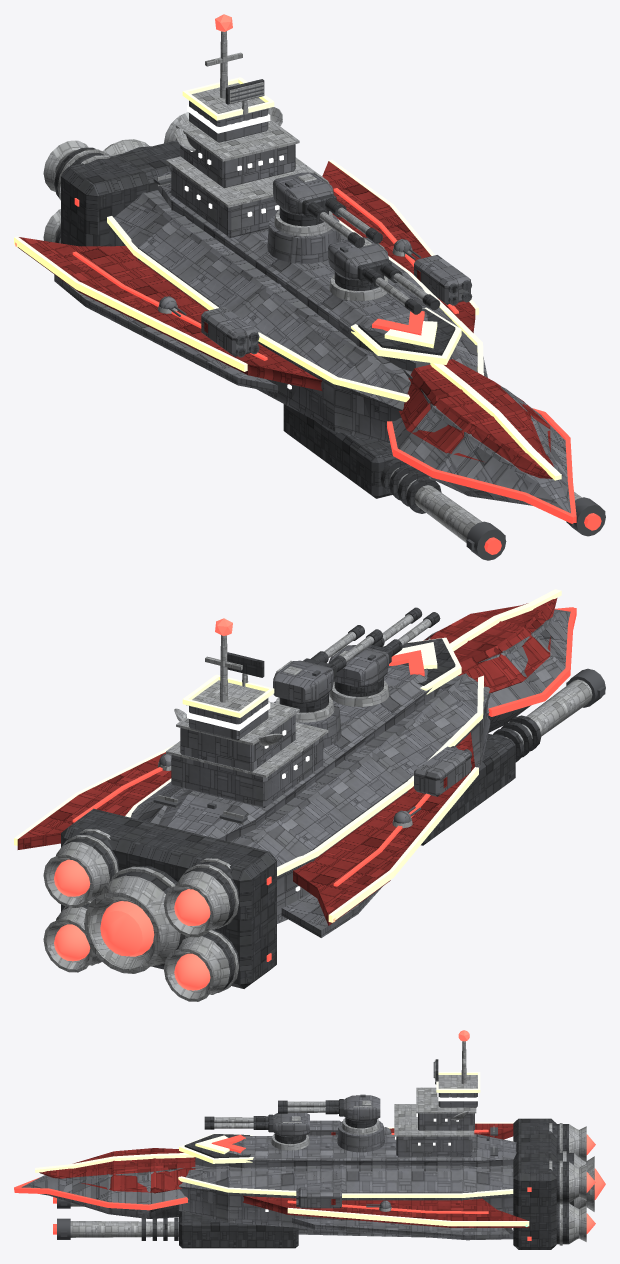
Rendered from vanguard_wreck.glb.
3 renders of one model, top to bottom at view 1: azimuth 30°, elevation 25°; view 2: azimuth 150°, elevation 25°; view 3: azimuth 270°, elevation 25°, orthographic. The views are drawn at different scales.
Parts seen in each view (by area): view 1: vanguard_wreck_07, vanguard_wreck_05, vanguard_wreck_06, vanguard_wreck_03, vanguard_wreck_13, vanguard_wreck_04, vanguard_wreck_00, vanguard_wreck_17, vanguard_wreck_11, vanguard_wreck_02, vanguard_wreck_08, vanguard_wreck_12 (+4 smaller); view 2: vanguard_wreck_02, vanguard_wreck_14, vanguard_wreck_05, vanguard_wreck_07, vanguard_wreck_03, vanguard_wreck_04, vanguard_wreck_06, vanguard_wreck_11, vanguard_wreck_17, vanguard_wreck_13, vanguard_wreck_00, vanguard_wreck_12 (+4 smaller); view 3: vanguard_wreck_12, vanguard_wreck_00, vanguard_wreck_02, vanguard_wreck_08, vanguard_wreck_04, vanguard_wreck_10, vanguard_wreck_05, vanguard_wreck_09, vanguard_wreck_15, vanguard_wreck_01, vanguard_wreck_13, vanguard_wreck_14 (+3 smaller).
Part boxes in pixels (x1,y1,x2,y2): vanguard_wreck_07: (76,202,268,356); vanguard_wreck_05: (166,14,317,229); vanguard_wreck_06: (163,283,350,405); vanguard_wreck_03: (358,371,477,514); vanguard_wreck_13: (427,427,601,560); vanguard_wreck_04: (256,172,401,292); vanguard_wreck_00: (347,257,487,381); vanguard_wreck_17: (287,321,389,492); vanguard_wreck_11: (14,169,145,309); vanguard_wreck_02: (87,112,189,216); vanguard_wreck_08: (464,375,605,530); vanguard_wreck_12: (317,173,460,287); vanguard_wreck_02: (43,771,264,972); vanguard_wreck_14: (82,859,276,1001); vanguard_wreck_05: (166,618,328,819); vanguard_wreck_07: (255,749,438,910); vanguard_wreck_03: (454,624,568,783); vanguard_wreck_04: (273,625,389,761); vanguard_wreck_06: (362,686,478,825); vanguard_wreck_11: (243,847,394,942); vanguard_wreck_17: (416,682,507,838); vanguard_wreck_13: (518,589,605,734); vanguard_wreck_00: (368,607,461,693); vanguard_wreck_12: (83,744,175,803); vanguard_wreck_12: (309,1134,449,1237); vanguard_wreck_00: (165,1114,291,1213); vanguard_wreck_02: (464,1122,600,1245); vanguard_wreck_08: (53,1153,176,1240); vanguard_wreck_04: (272,1094,403,1178); vanguard_wreck_10: (443,1172,574,1249); vanguard_wreck_05: (394,1030,480,1156); vanguard_wreck_09: (243,1167,355,1248); vanguard_wreck_15: (143,1189,244,1248); vanguard_wreck_01: (394,1156,513,1239); vanguard_wreck_13: (14,1153,107,1234); vanguard_wreck_14: (537,1118,605,1211).
Bounding box in the file's own units: 4.36 × 4.23 × 10.9.
12 materials, 5 textured.
